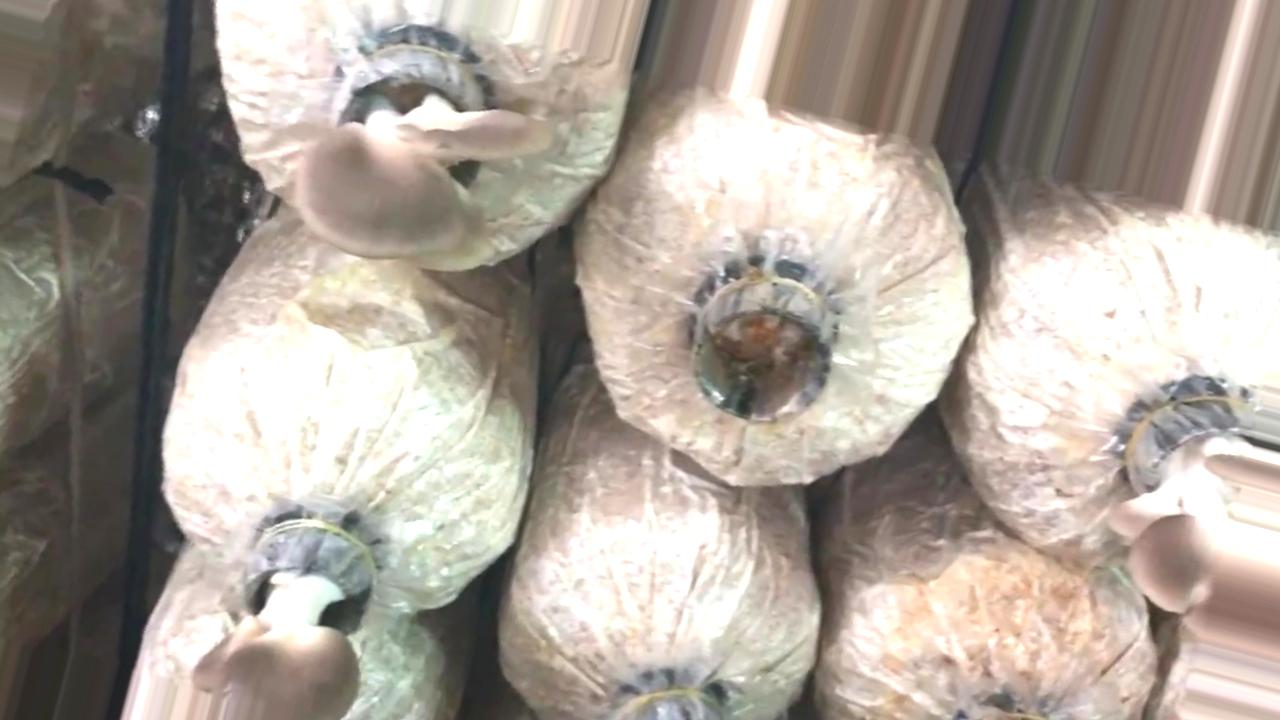nam: (296, 24, 550, 263), (1107, 371, 1280, 657), (190, 512, 382, 720)
